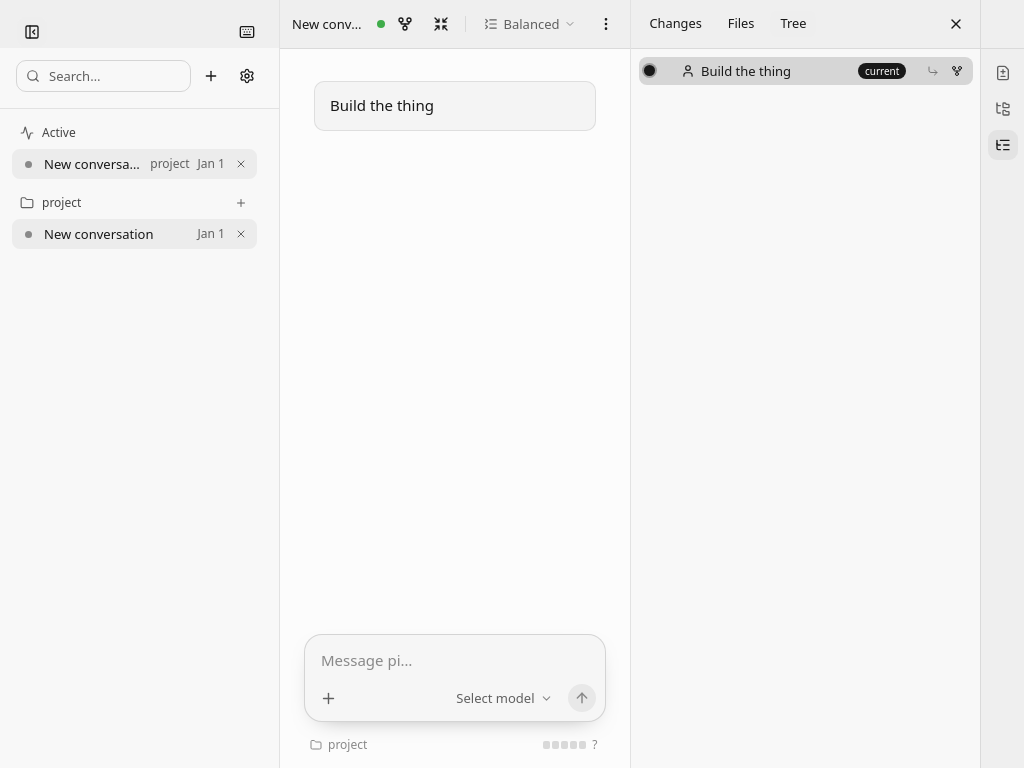
review pane on desktop › forking from the pane's tree keeps the pane open
The width and height of the screenshot is (1024, 768).
Expected: the text box labelled "Message" is enabled, x1=305 y1=635 x2=604 y2=677
Click the text "Build the thing" next to "current" at (746, 71), box x1=700 y1=62 x2=791 y2=80
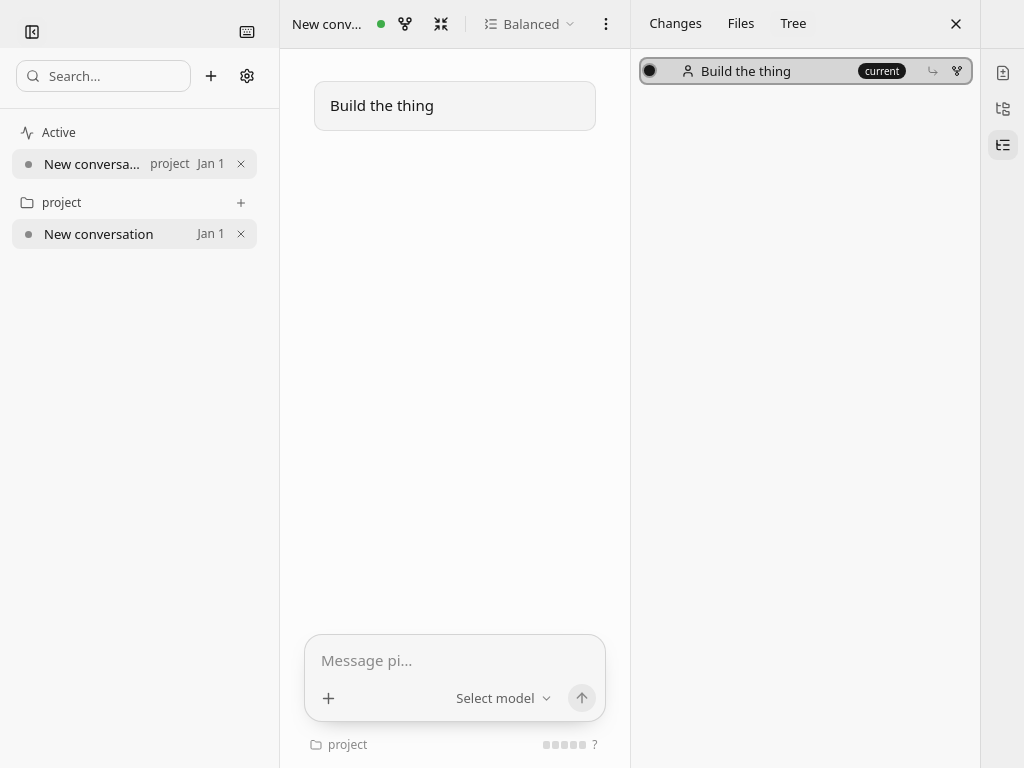
Click the button named "Fork from here" at (956, 71), box x1=944 y1=59 x2=968 y2=83
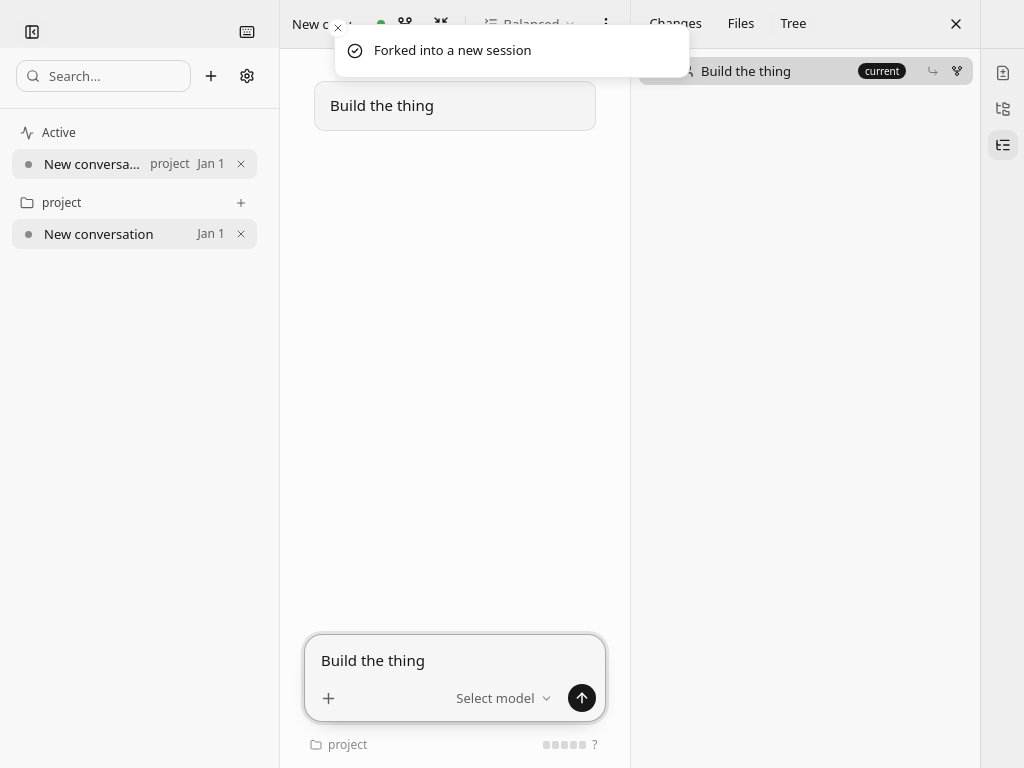
Expected: the tab "Tree" is shown, x1=769 y1=10 x2=817 y2=38
Expected: the text box named "Message" holds "Build the thing", x1=305 y1=635 x2=604 y2=677
